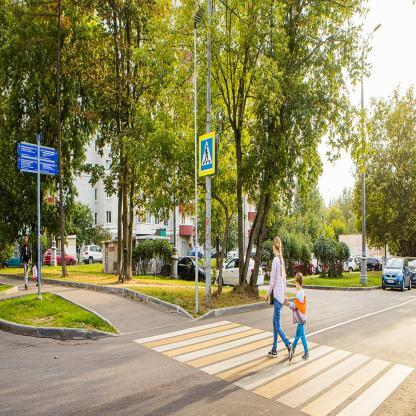road_sign: (198, 133, 215, 175)
